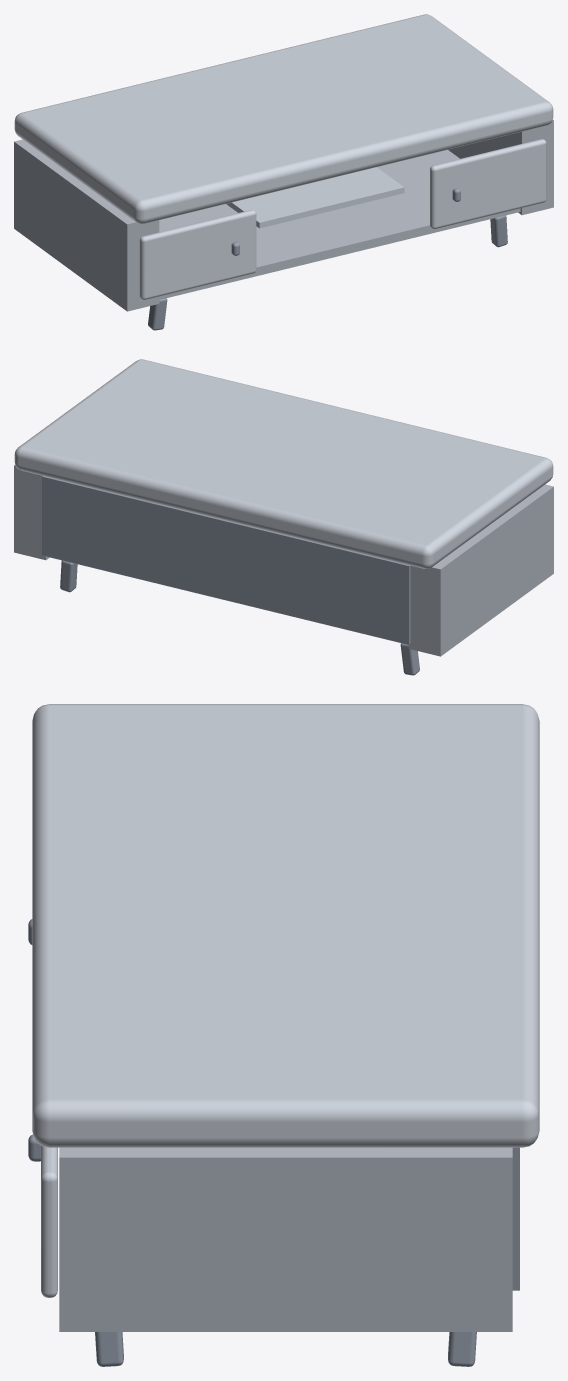
Rendered from squarecoffeetable.glb.
3 views of the same model, one above another, from view 1: azimuth 30°, elevation 25°; view 2: azimuth 150°, elevation 25°; view 3: azimuth 270°, elevation 25° (orthographic). The views are drawn at different scales.
Visible parts, largest first — view 1: squarecoffeetable; view 2: squarecoffeetable; view 3: squarecoffeetable.
Part boxes in pixels (x1=…): squarecoffeetable: x1=14, y1=14, x2=553, y2=330; squarecoffeetable: x1=14, y1=359, x2=553, y2=675; squarecoffeetable: x1=28, y1=704, x2=539, y2=1366.
Size of the model in its own units: 1.4 by 0.4613 by 0.7265.
